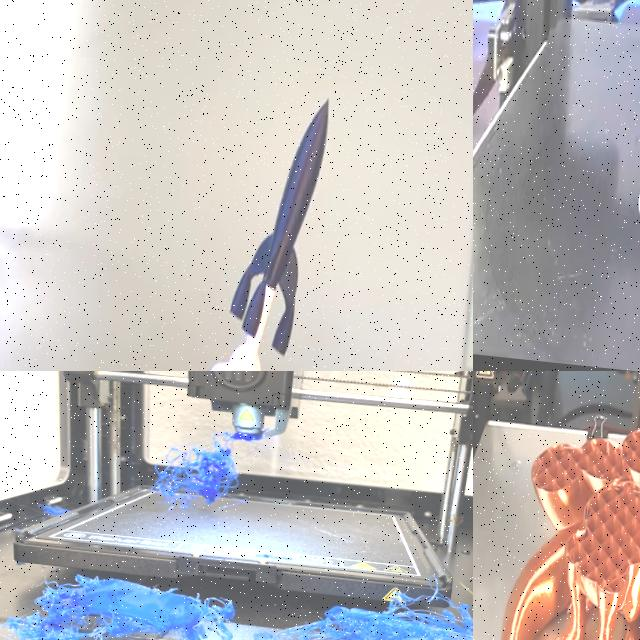spaghetti: (0, 575, 473, 640), (150, 430, 265, 511), (43, 505, 70, 516)
